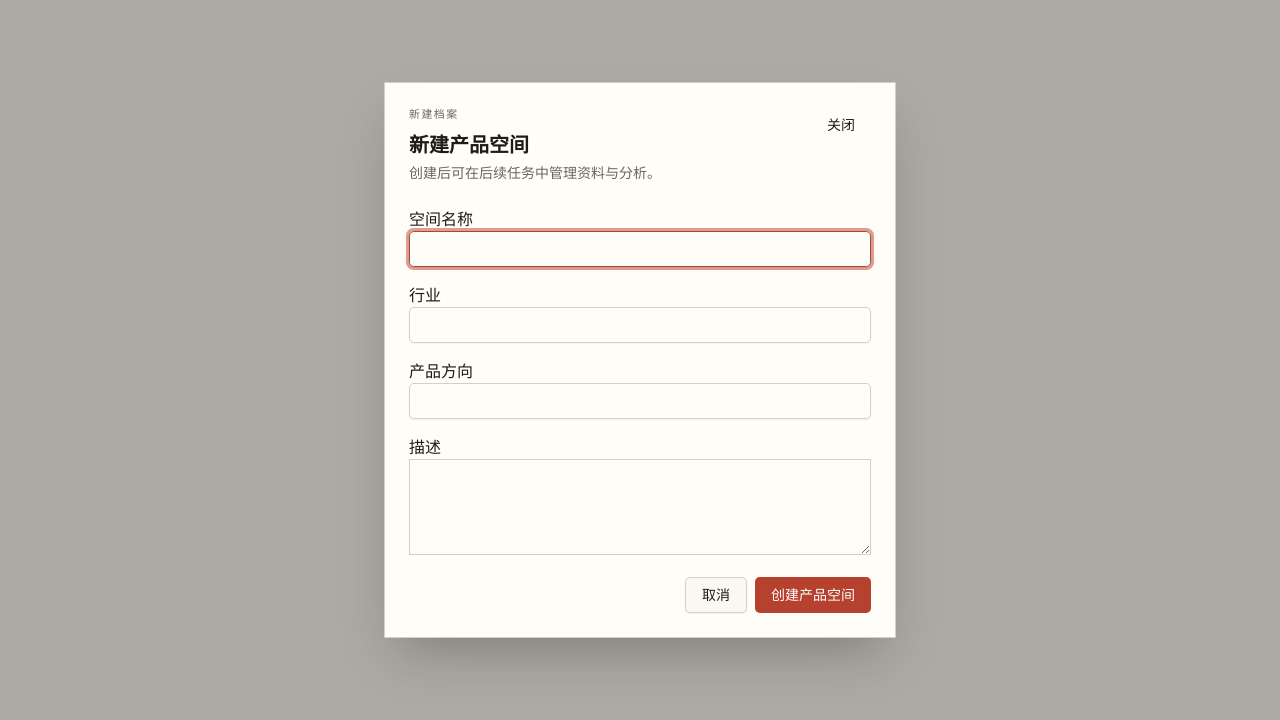
Test: SpaceCreateDialog › does not request creation when the name is blank
Click the button "创建产品空间": [813, 595] box [755,577,871,613]
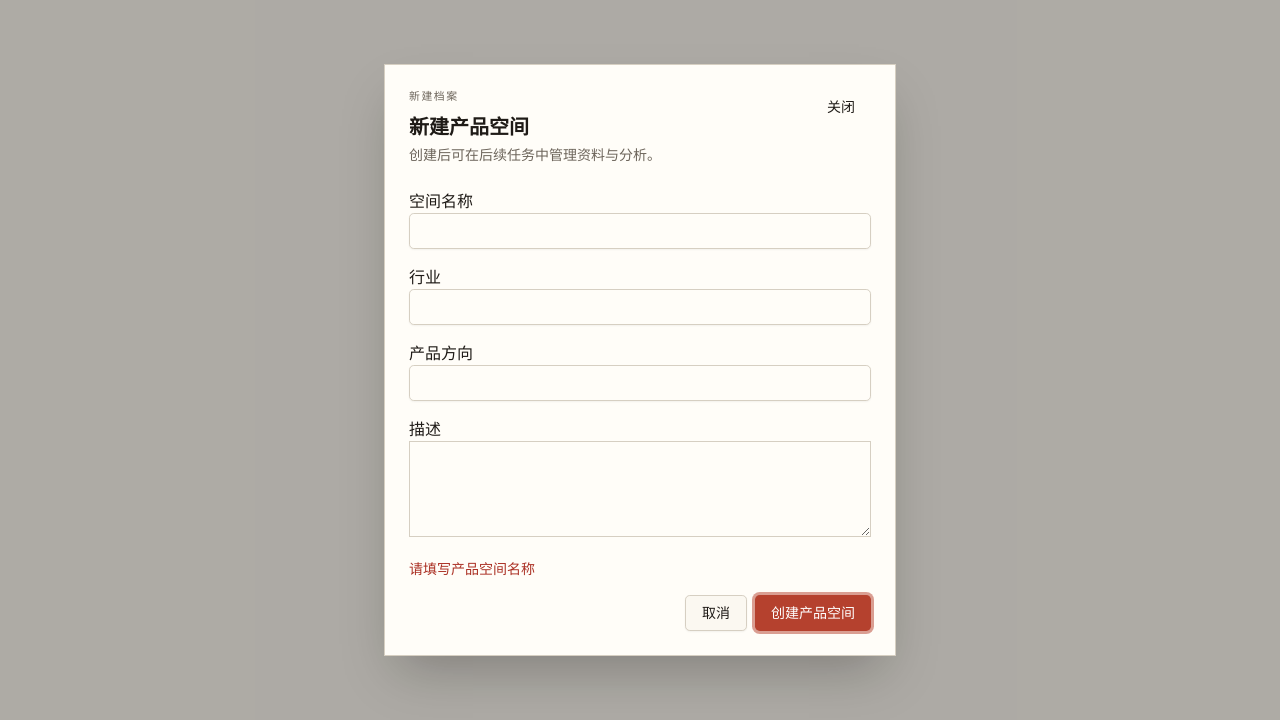
Check: the message reads "请填写产品空间名称", box [409,559,535,578]
